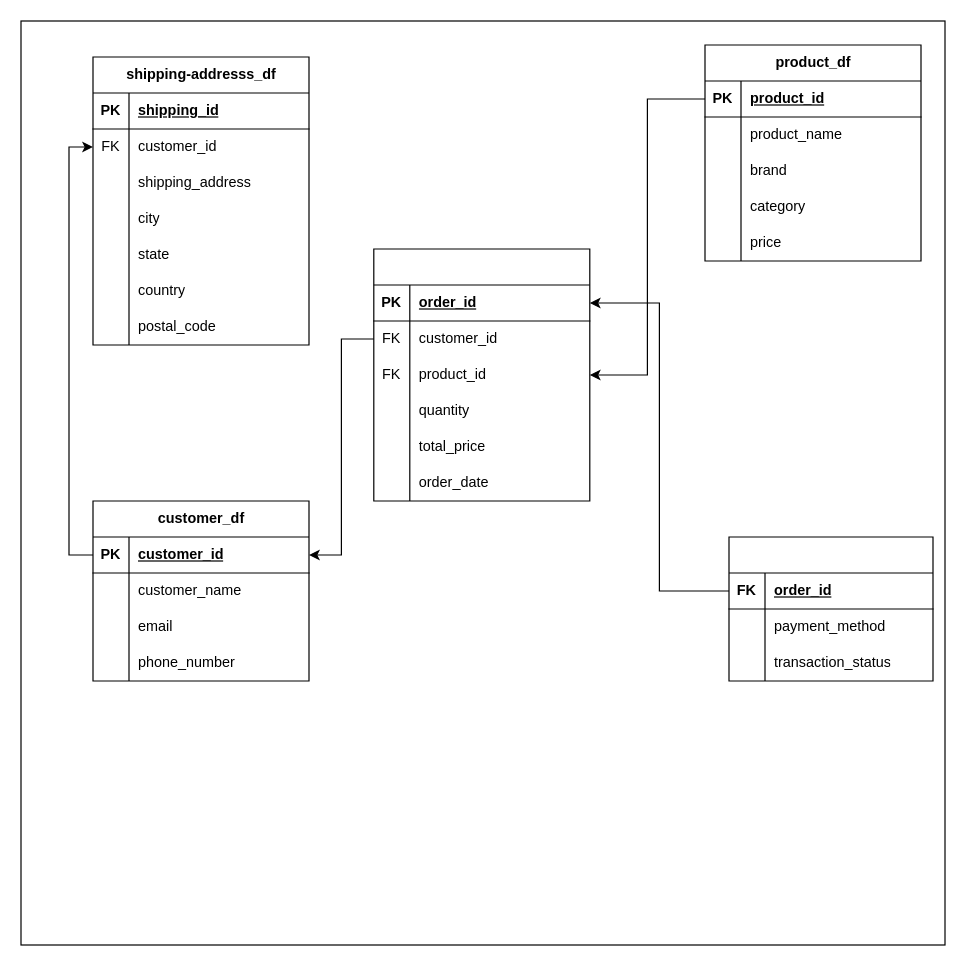
This 966x966 diagram has some shape labels left out. Each missing label, with the box of its shape:
order_df: (373, 248, 590, 501)
payment_method_df: (728, 536, 933, 681)
